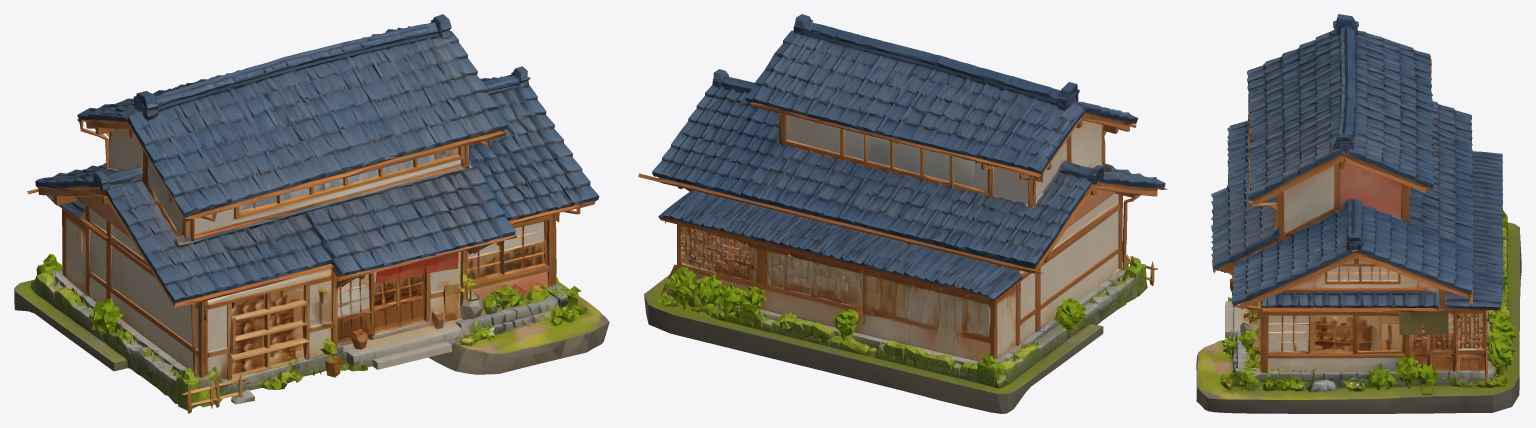
3 renders of one model, left to right at view 1: azimuth 30°, elevation 25°; view 2: azimuth 150°, elevation 25°; view 3: azimuth 270°, elevation 25°, orthographic. The views are drawn at different scales.
Parts seen in each view (by area): view 1: model; view 2: model; view 3: model.
Boxes of the visible parts, box(x1,y1,x2,y2) form: model: box(14, 14, 609, 413); model: box(638, 14, 1167, 413); model: box(1196, 14, 1521, 413).
Bounding box in the file's own units: 1.89 × 1.15 × 1.4.
1 material, 1 textured.
